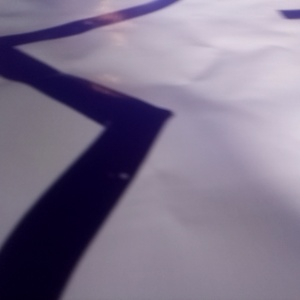bottom_left: (116, 52, 214, 98)
bottom_right: (189, 45, 294, 86)
top_left: (103, 28, 183, 62)
